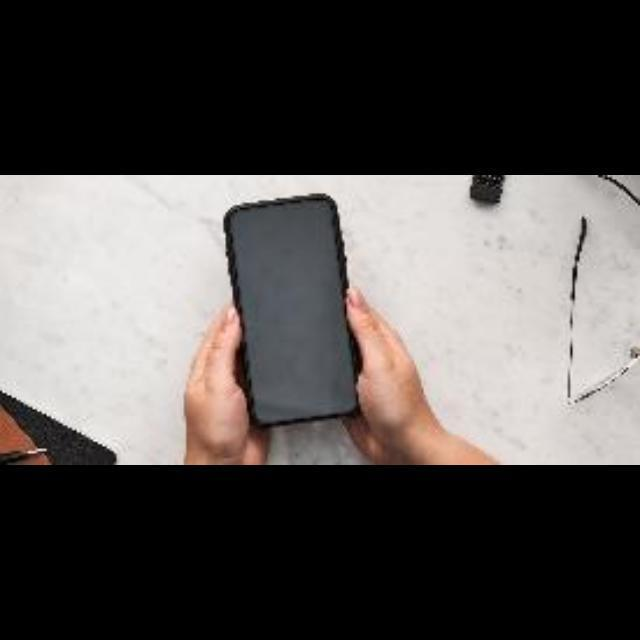PhoneUse: (216, 196, 390, 438)
